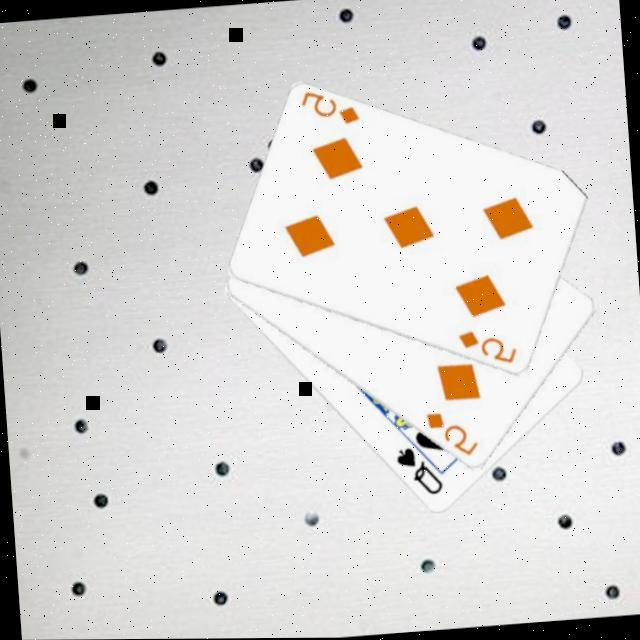5D: (424, 407, 484, 464), (299, 85, 366, 132), (456, 325, 523, 371)
QS: (393, 443, 448, 502)
